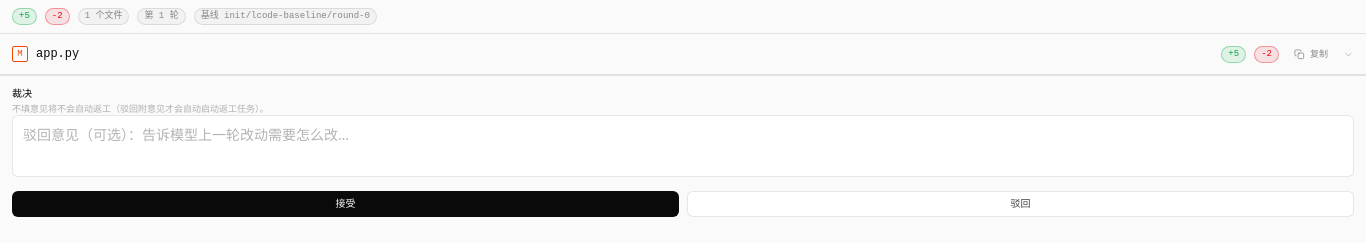
DiffReviewPanel · pending 渲染 › 驳回意见留空时提示可见；填写后提示消失
The width and height of the screenshot is (1366, 243).
Expected: the text "不填意见将不会自动返工（驳回附意见才会自动启动返工任务）。" is shown, [12,102,268,114]
In the text box with test id "diff-verdict-feedback": (683, 146) [12,115,1354,177], type "请补充测试"
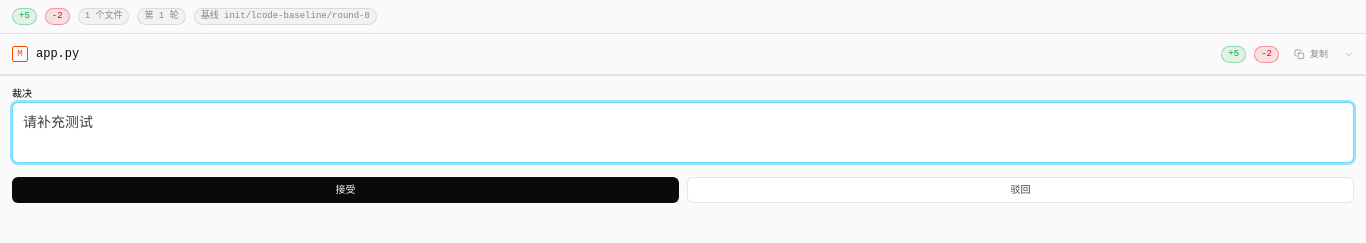
Now the text with test id "diff-verdict-empty-hint" is gone
